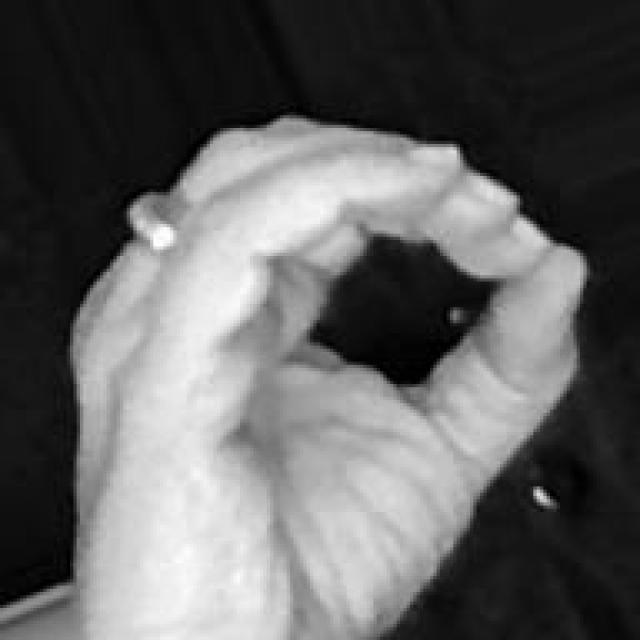O: (62, 104, 602, 640)
